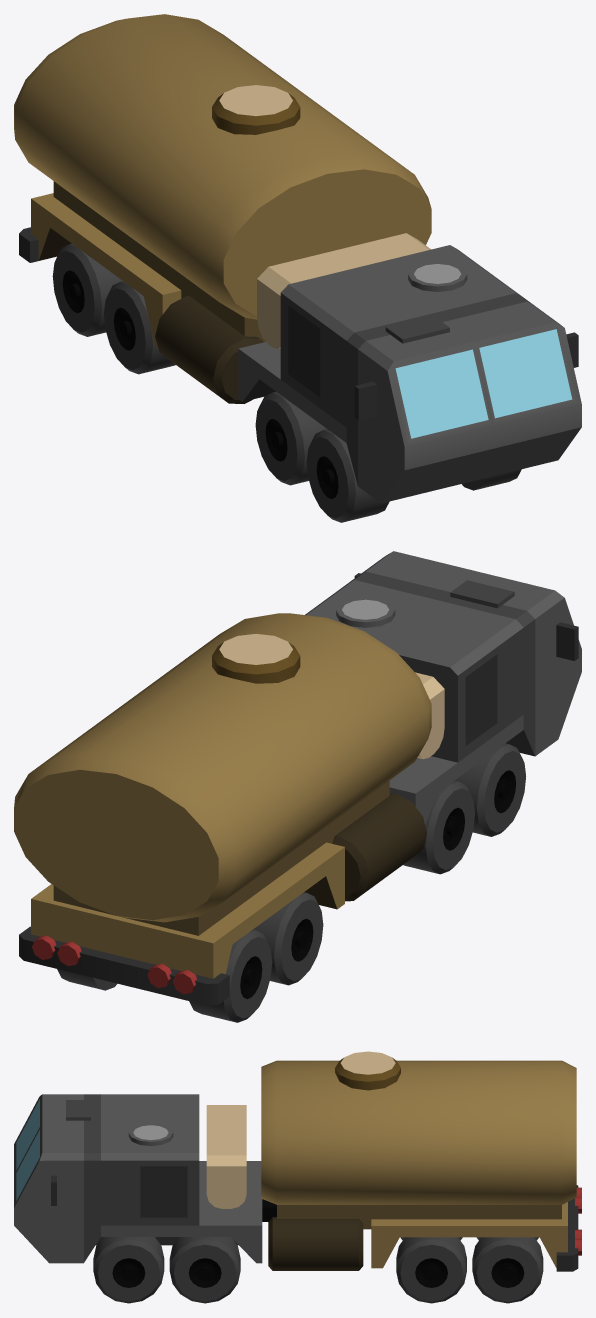
Rendered from Big Truck 1.fbx.
3 renders of one model, top to bottom at view 1: azimuth 30°, elevation 25°; view 2: azimuth 150°, elevation 25°; view 3: azimuth 270°, elevation 25°, orthographic. The views are drawn at different scales.
Parts seen in each view (by area): view 1: Cylinder.573, Cube.493, Cube.498, Cylinder.570, Cube.496, Cylinder.568, Cylinder.569, Cylinder.572, Cylinder.571, Cylinder.574, Cylinder.567, Cube.494 (+1 smaller); view 2: Cylinder.573, Cube.493, Cube.498, Cylinder.570, Cylinder.572, Cylinder.568, Cylinder.571, Cylinder.569, Cylinder.574, Cylinder.580, Cylinder.567, Cube.496 (+2 smaller); view 3: Cylinder.573, Cube.493, Cube.498, Cylinder.570, Cube.496, Cylinder.572, Cylinder.571, Cylinder.569, Cylinder.568, Cylinder.574, Cylinder.567, Cube.495.
Part boxes in pixels (<box>): Cylinder.573: <box>14,14,431,342</box>; Cube.493: <box>238,245,581,503</box>; Cube.498: <box>19,193,181,347</box>; Cylinder.570: <box>155,296,263,403</box>; Cube.496: <box>257,233,430,348</box>; Cylinder.568: <box>306,429,521,522</box>; Cylinder.569: <box>255,391,326,485</box>; Cylinder.572: <box>52,243,122,336</box>; Cylinder.571: <box>104,281,175,374</box>; Cylinder.574: <box>212,85,300,134</box>; Cylinder.567: <box>408,261,467,291</box>; Cube.494: <box>354,332,578,420</box>; Cylinder.573: <box>14,613,431,935</box>; Cube.493: <box>305,551,581,824</box>; Cube.498: <box>19,842,344,1005</box>; Cylinder.570: <box>332,793,426,901</box>; Cylinder.572: <box>57,929,272,1022</box>; Cylinder.568: <box>455,743,525,836</box>; Cylinder.571: <box>253,892,323,985</box>; Cylinder.569: <box>403,780,474,874</box>; Cylinder.574: <box>212,634,300,683</box>; Cylinder.580: <box>32,935,196,994</box>; Cylinder.567: <box>336,597,395,627</box>; Cube.496: <box>415,672,444,759</box>; Cylinder.573: <box>261,1060,576,1229</box>; Cube.493: <box>14,1094,262,1263</box>; Cube.498: <box>371,1185,578,1271</box>; Cylinder.570: <box>268,1217,363,1270</box>; Cube.496: <box>206,1105,246,1208</box>; Cylinder.572: <box>472,1237,543,1303</box>; Cylinder.571: <box>396,1237,466,1303</box>; Cylinder.569: <box>169,1237,240,1303</box>; Cylinder.568: <box>93,1237,164,1303</box>; Cylinder.574: <box>335,1051,400,1090</box>; Cylinder.567: <box>128,1123,173,1146</box>; Cube.495: <box>66,1100,90,1120</box>.
Bounding box in the file's own units: 948 × 1146 × 2813.
